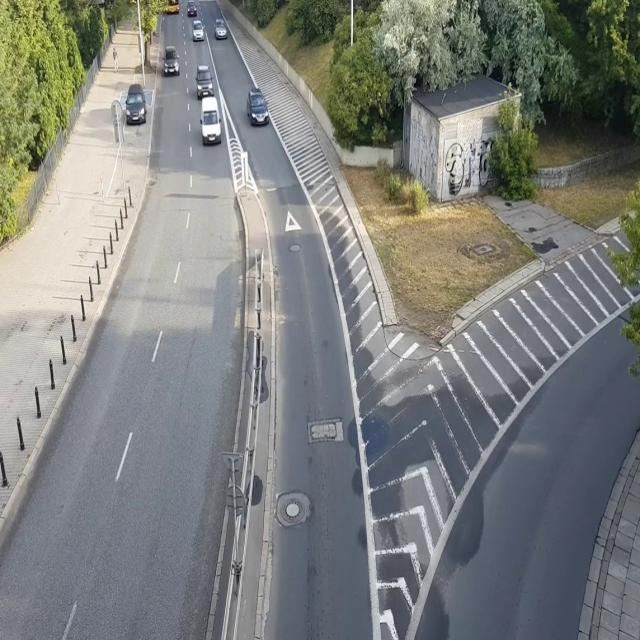bus: (163, 0, 180, 14)
car: (124, 84, 147, 125), (246, 88, 269, 126), (161, 45, 180, 78), (196, 64, 214, 98), (214, 17, 228, 40), (191, 20, 205, 42), (186, 0, 197, 19)
van: (200, 96, 222, 146)
